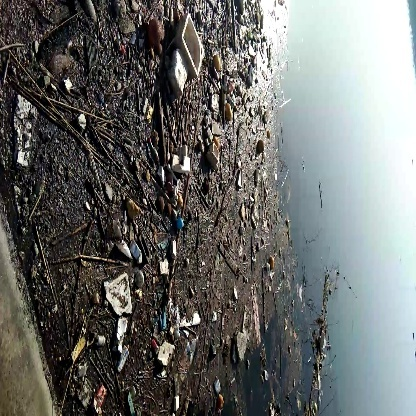plastic-garbage: (163, 11, 212, 88)
